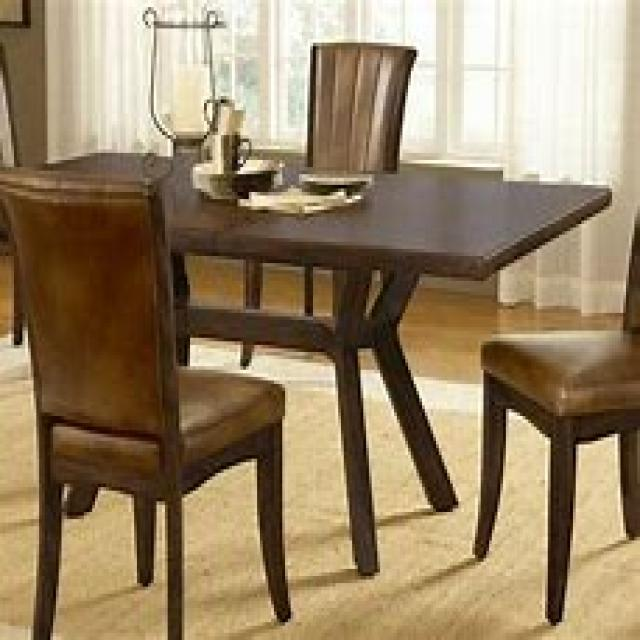chair: (0, 156, 291, 636), (470, 185, 637, 622)
table: (0, 146, 612, 576)
